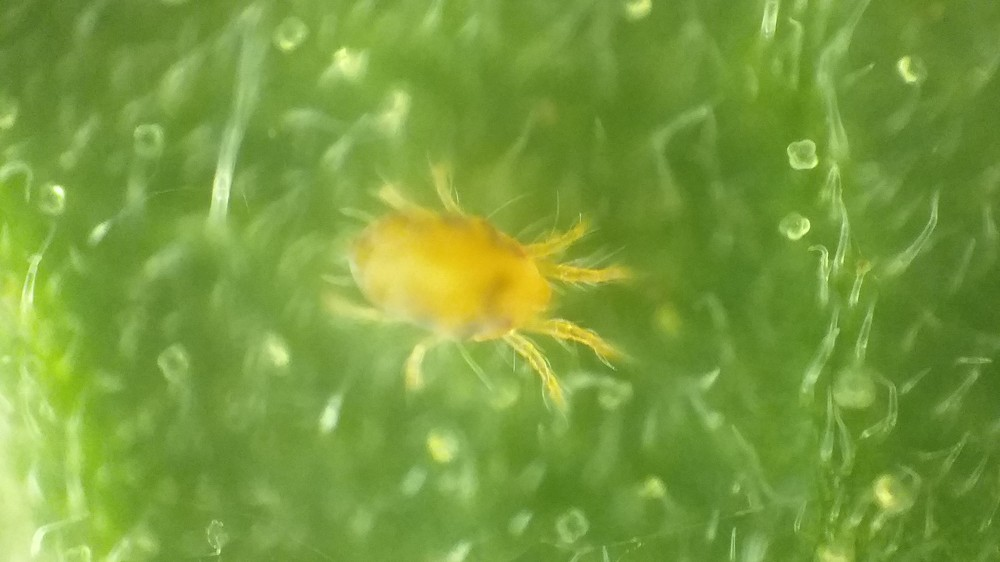Aracnido Rojo: (304, 163, 670, 436)
